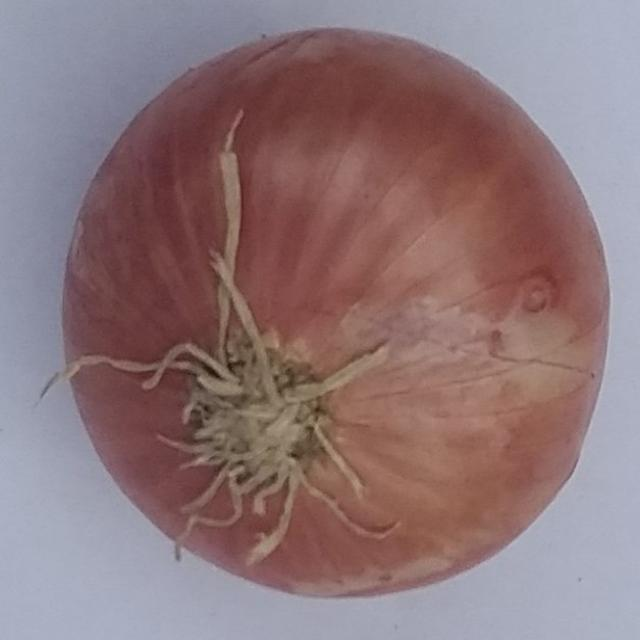onion: (38, 25, 610, 601)
